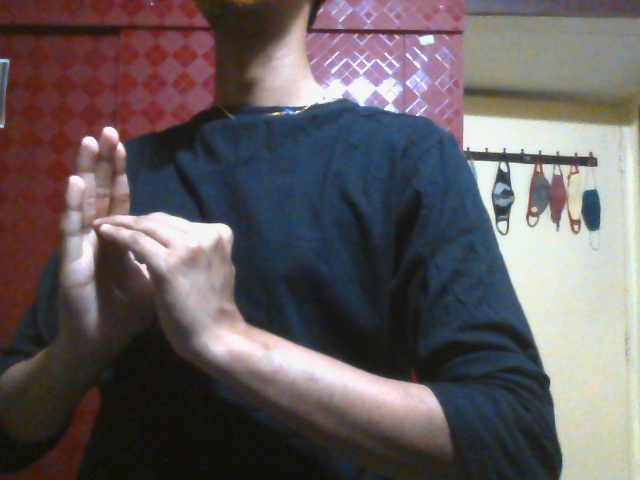Z: (51, 125, 253, 403)
